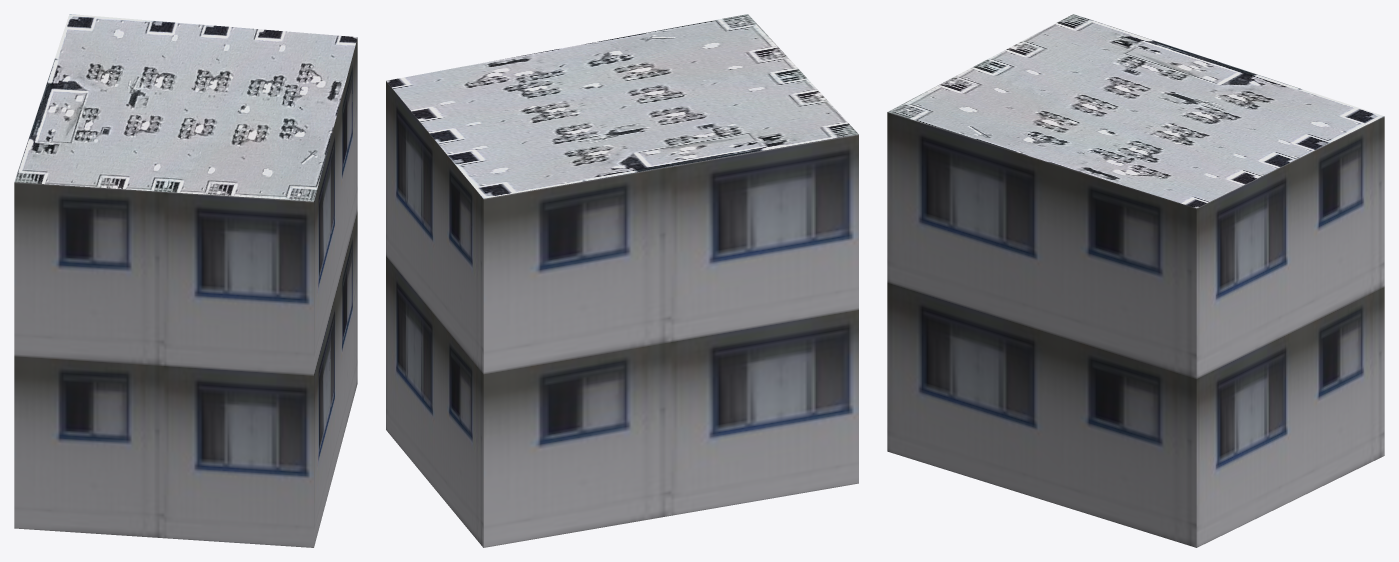
The model's file is ResTex__1956.fbx.
3 renders of one model, left to right at view 1: azimuth 30°, elevation 25°; view 2: azimuth 150°, elevation 25°; view 3: azimuth 270°, elevation 25°, orthographic. The views are drawn at different scales.
Parts seen in each view (by area): view 1: CityEngineMaterial_9_m, CityEngineMaterial_8_m; view 2: CityEngineMaterial_9_m, CityEngineMaterial_8_m; view 3: CityEngineMaterial_9_m, CityEngineMaterial_8_m.
Boxes of the visible parts, box(x1,y1,x2,y2) form: CityEngineMaterial_9_m: box(14, 38, 357, 547); CityEngineMaterial_8_m: box(14, 14, 357, 201); CityEngineMaterial_9_m: box(386, 81, 858, 547); CityEngineMaterial_8_m: box(386, 14, 858, 198); CityEngineMaterial_9_m: box(887, 112, 1384, 547); CityEngineMaterial_8_m: box(888, 14, 1383, 208).
Bounding box in the file's own units: 7.37 × 6 × 7.96.
2 materials, 2 textured.
